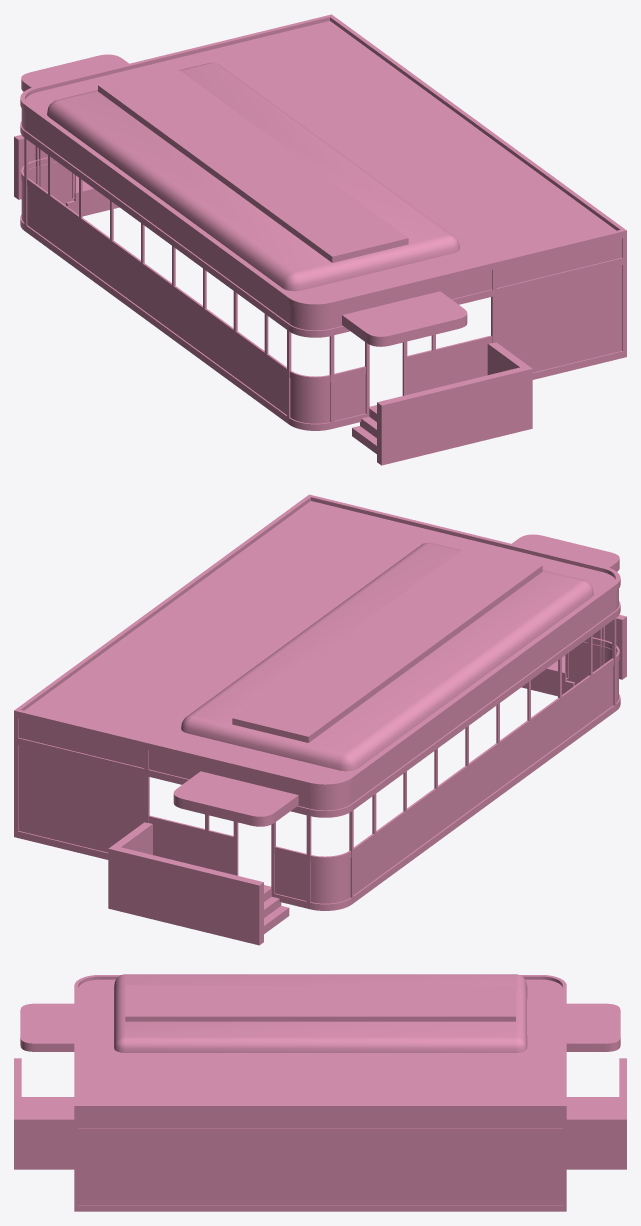
The model's file is SM_ExteriorShell_DinerCart.FBX.
The picture shows the model from 3 angles, top to bottom: view 1: azimuth 30°, elevation 25°; view 2: azimuth 150°, elevation 25°; view 3: azimuth 270°, elevation 25°; orthographic projection. The views are drawn at different scales.
Parts seen in each view (by area): view 1: SM_ExteriorShell_DinerCart; view 2: SM_ExteriorShell_DinerCart; view 3: SM_ExteriorShell_DinerCart.
Boxes of the visible parts, bbox=[...] form: SM_ExteriorShell_DinerCart: bbox=[14, 14, 626, 465]; SM_ExteriorShell_DinerCart: bbox=[14, 494, 626, 945]; SM_ExteriorShell_DinerCart: bbox=[14, 974, 626, 1211].
Bounding box in the file's own units: 1014 × 468 × 2001.
